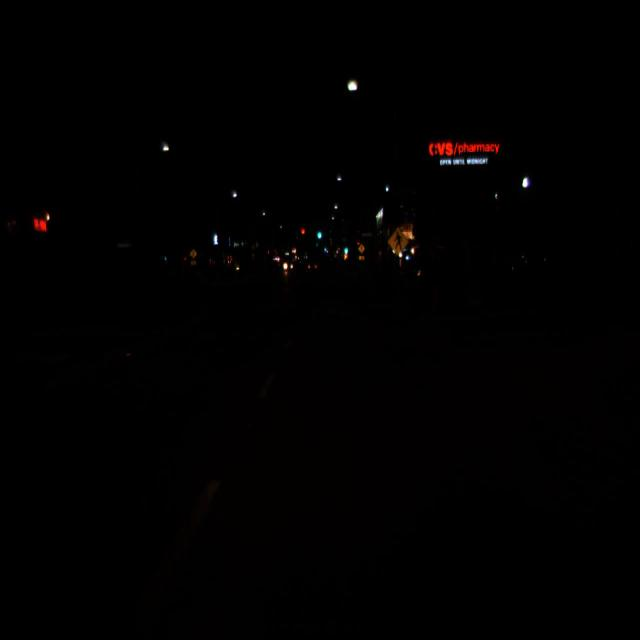go: (316, 224, 322, 240), (344, 244, 348, 254)
go traffic light: (316, 224, 322, 240), (344, 244, 348, 254)
stop left: (301, 228, 305, 237)
stop left traffic light: (301, 228, 305, 237)
